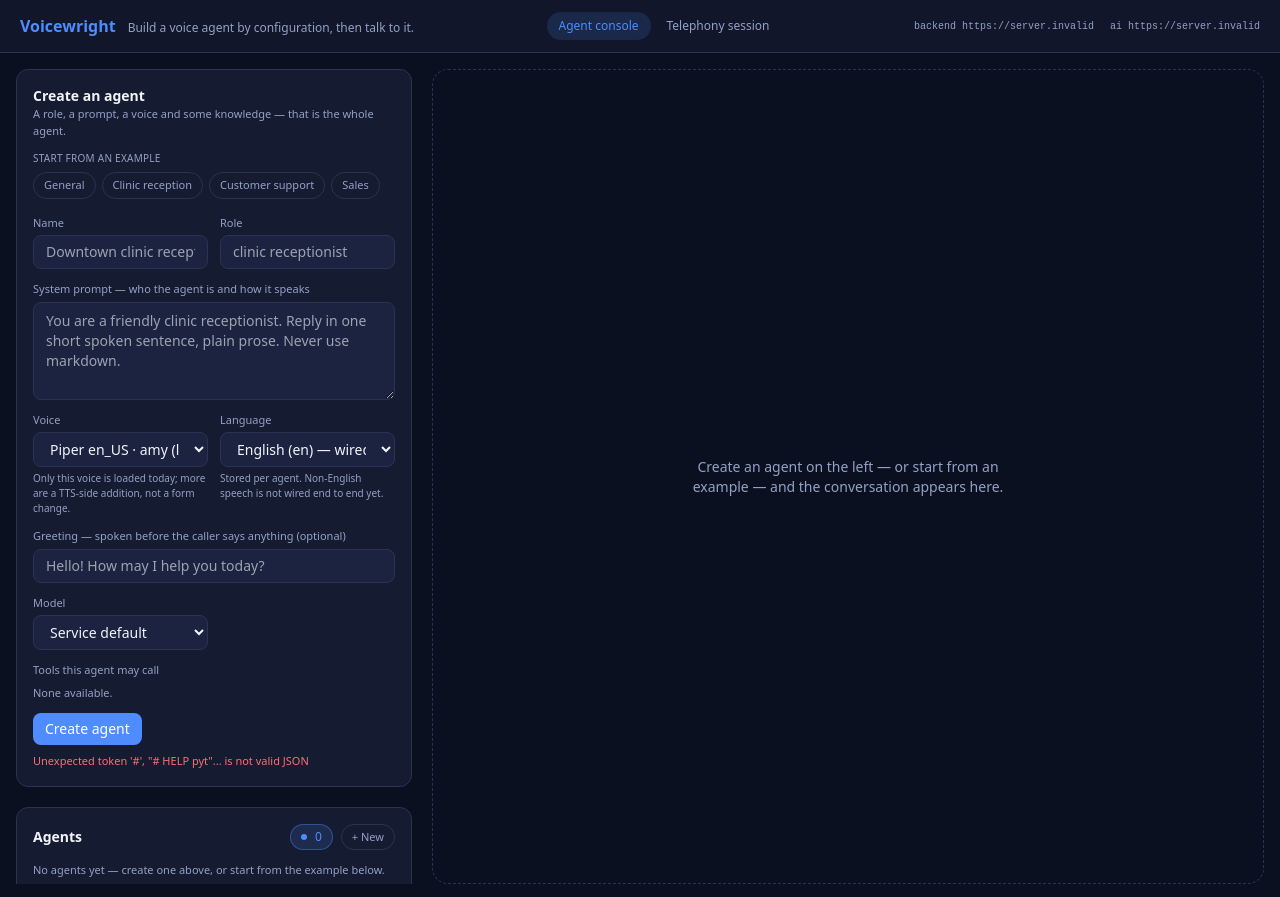
App — observability dashboard › renders live tiles parsed from both real /metrics fixtures
# Observability moved to its own tab when the console became the default view.
What coordinates should you click on to do the following:
click the tab with test id "tab-session"
I would click on:
 (718, 26)
Its box is [654,12,782,40].
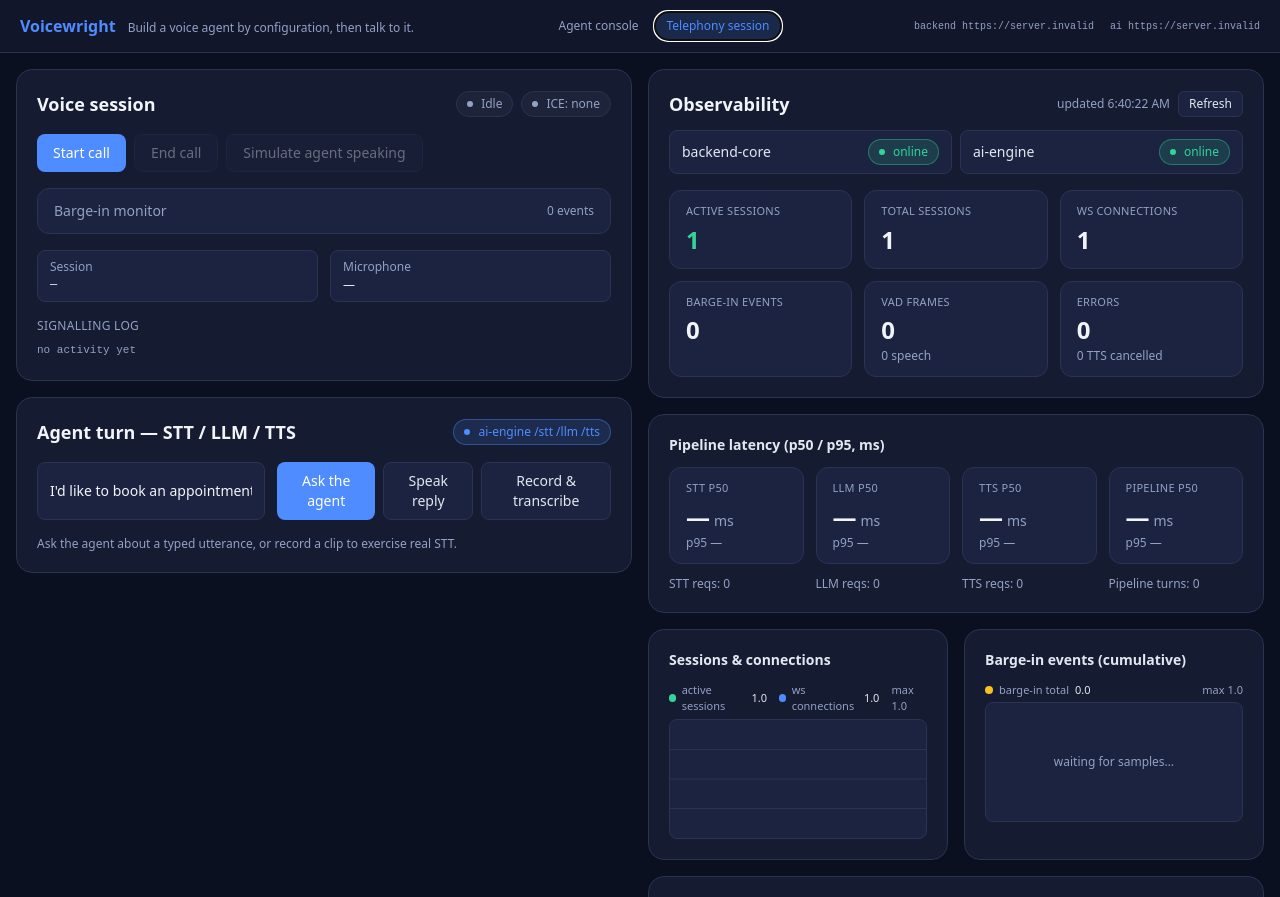
Now the number of elements with test id "svc-online" is 2, box [868,139,939,165]; [1159,139,1230,165]
Now the element with test id "tile-active-sessions" shows "1", box [686,222,700,256]
Now the element with test id "tile-ws" shows "1", box [1077,222,1090,256]
